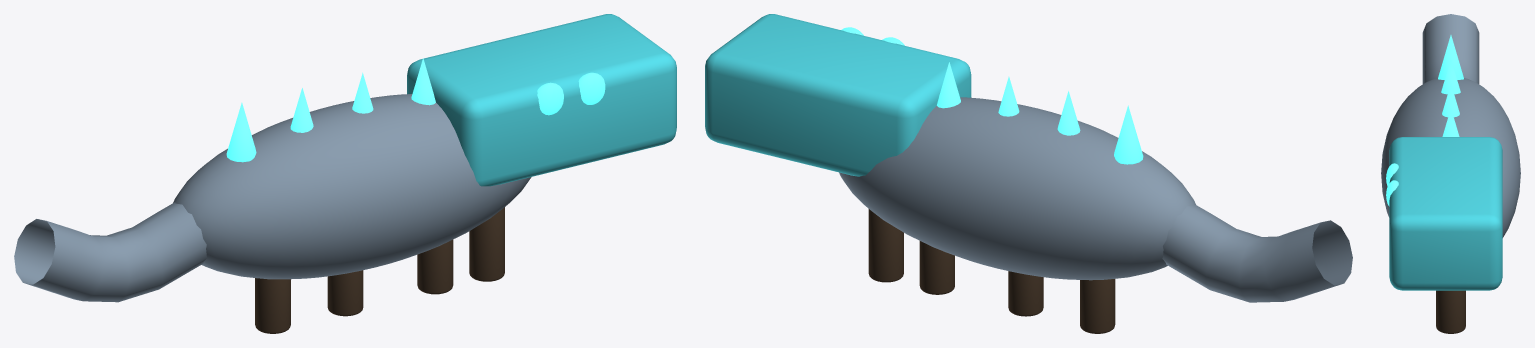
The model's file is beast_v8.glb.
3 views of the same model, side by side, from view 1: azimuth 30°, elevation 25°; view 2: azimuth 150°, elevation 25°; view 3: azimuth 270°, elevation 25° (orthographic). The views are drawn at different scales.
Parts seen in each view (by area): view 1: CROC_BODY_PRIMARY, CROC_HEAD_ACCENT, CROC_TAIL_PRIMARY, CROC_LEG_SECONDARY.003, CROC_LEG_SECONDARY, CROC_LEG_SECONDARY.002, CROC_LEG_SECONDARY.001, CROC_SCUTE_EMISSIVE, EYE_EMISSIVE, EYE_EMISSIVE.001, CROC_SCUTE_EMISSIVE.003, CROC_SCUTE_EMISSIVE.001 (+1 smaller); view 2: CROC_BODY_PRIMARY, CROC_HEAD_ACCENT, CROC_TAIL_PRIMARY, CROC_LEG_SECONDARY.003, CROC_LEG_SECONDARY, CROC_LEG_SECONDARY.002, CROC_LEG_SECONDARY.001, CROC_SCUTE_EMISSIVE, CROC_SCUTE_EMISSIVE.003, CROC_SCUTE_EMISSIVE.001, CROC_SCUTE_EMISSIVE.002; view 3: CROC_HEAD_ACCENT, CROC_BODY_PRIMARY, CROC_TAIL_PRIMARY, CROC_LEG_SECONDARY.003, CROC_SCUTE_EMISSIVE, CROC_SCUTE_EMISSIVE.001, CROC_SCUTE_EMISSIVE.002, CROC_SCUTE_EMISSIVE.003, EYE_EMISSIVE.001, EYE_EMISSIVE.
Boxes of the visible parts, x1=… form: CROC_BODY_PRIMARY: x1=173, y1=94, x2=531, y2=279; CROC_HEAD_ACCENT: x1=407, y1=14, x2=676, y2=186; CROC_TAIL_PRIMARY: x1=14, y1=202, x2=207, y2=302; CROC_LEG_SECONDARY.003: x1=469, y1=207, x2=504, y2=281; CROC_LEG_SECONDARY: x1=255, y1=278, x2=290, y2=333; CROC_LEG_SECONDARY.002: x1=417, y1=239, x2=453, y2=294; CROC_LEG_SECONDARY.001: x1=327, y1=270, x2=363, y2=316; CROC_SCUTE_EMISSIVE: x1=226, y1=102, x2=256, y2=162; EYE_EMISSIVE: x1=537, y1=82, x2=563, y2=115; EYE_EMISSIVE.001: x1=578, y1=72, x2=605, y2=104; CROC_SCUTE_EMISSIVE.003: x1=411, y1=58, x2=435, y2=105; CROC_SCUTE_EMISSIVE.001: x1=290, y1=88, x2=313, y2=132; CROC_BODY_PRIMARY: x1=839, y1=97, x2=1195, y2=280; CROC_HEAD_ACCENT: x1=705, y1=14, x2=971, y2=176; CROC_TAIL_PRIMARY: x1=1162, y1=204, x2=1352, y2=302; CROC_LEG_SECONDARY.003: x1=868, y1=209, x2=903, y2=282; CROC_LEG_SECONDARY: x1=1080, y1=279, x2=1115, y2=333; CROC_LEG_SECONDARY.002: x1=919, y1=241, x2=954, y2=294; CROC_LEG_SECONDARY.001: x1=1008, y1=271, x2=1043, y2=316; CROC_SCUTE_EMISSIVE: x1=1114, y1=105, x2=1143, y2=164; CROC_SCUTE_EMISSIVE.003: x1=937, y1=62, x2=960, y2=108; CROC_SCUTE_EMISSIVE.001: x1=1057, y1=91, x2=1080, y2=135; CROC_SCUTE_EMISSIVE.002: x1=998, y1=76, x2=1019, y2=116; CROC_HEAD_ACCENT: x1=1389, y1=137, x2=1502, y2=290; CROC_BODY_PRIMARY: x1=1381, y1=78, x2=1520, y2=237; CROC_TAIL_PRIMARY: x1=1422, y1=14, x2=1479, y2=83; CROC_LEG_SECONDARY.003: x1=1436, y1=290, x2=1465, y2=333; CROC_SCUTE_EMISSIVE: x1=1438, y1=35, x2=1463, y2=79; CROC_SCUTE_EMISSIVE.001: x1=1441, y1=59, x2=1460, y2=94; CROC_SCUTE_EMISSIVE.002: x1=1442, y1=84, x2=1459, y2=117; CROC_SCUTE_EMISSIVE.003: x1=1442, y1=108, x2=1459, y2=136; EYE_EMISSIVE.001: x1=1386, y1=180, x2=1398, y2=206; EYE_EMISSIVE: x1=1386, y1=163, x2=1398, y2=186.
Bounding box in the file's own units: 3.61 × 1.29 × 0.84.
